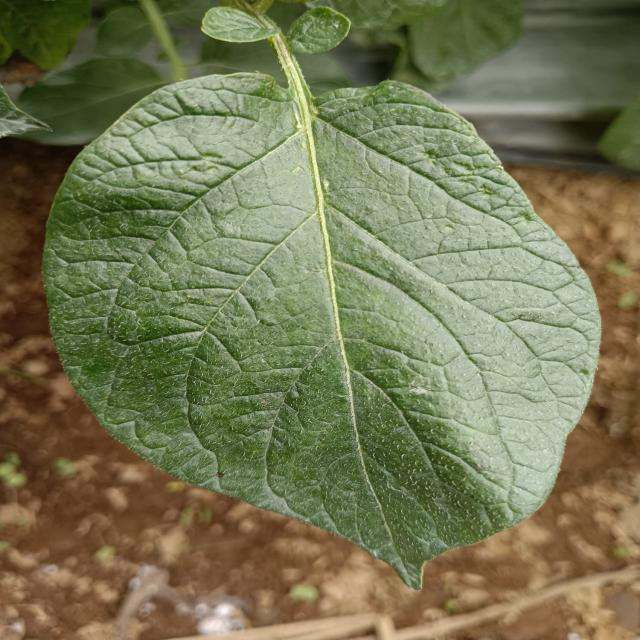healthy: (38, 41, 604, 592)
